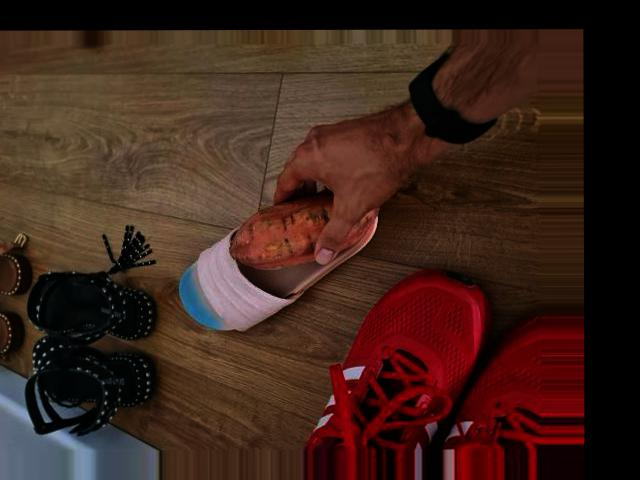sweet_potato: (228, 194, 381, 268)
